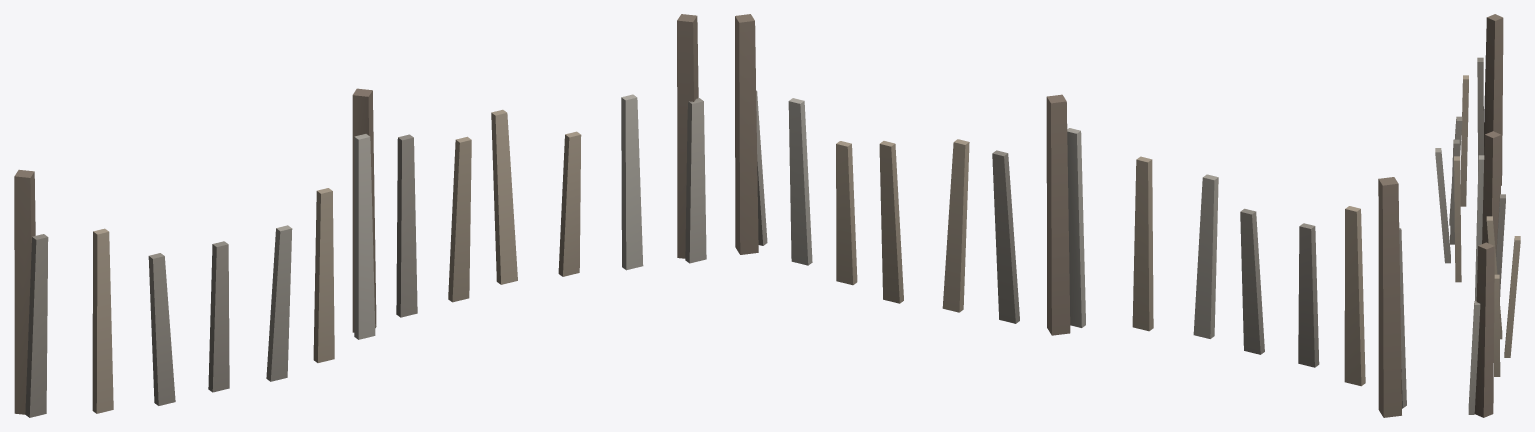
The model's file is dunefence.lod1.glb.
3 views of the same model, side by side, from view 1: azimuth 30°, elevation 25°; view 2: azimuth 150°, elevation 25°; view 3: azimuth 270°, elevation 25° (orthographic). The views are drawn at different scales.
Size of the model in its own units: 4.02 by 1.33 by 0.6148.
